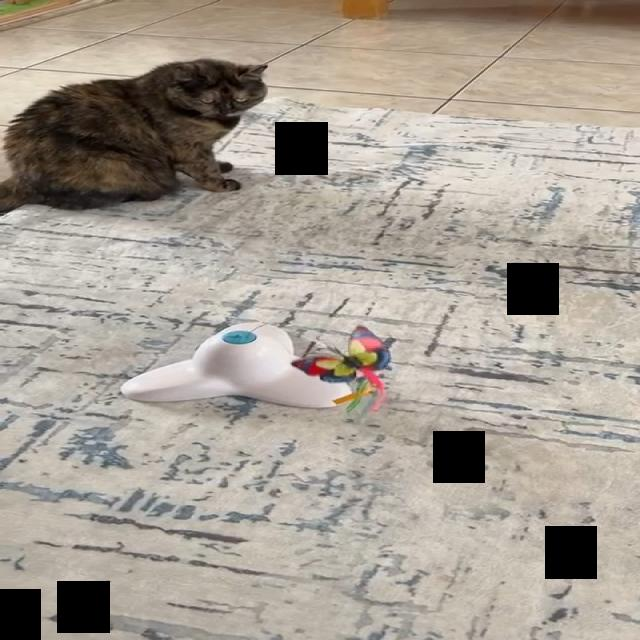authorized: (0, 58, 268, 214)
